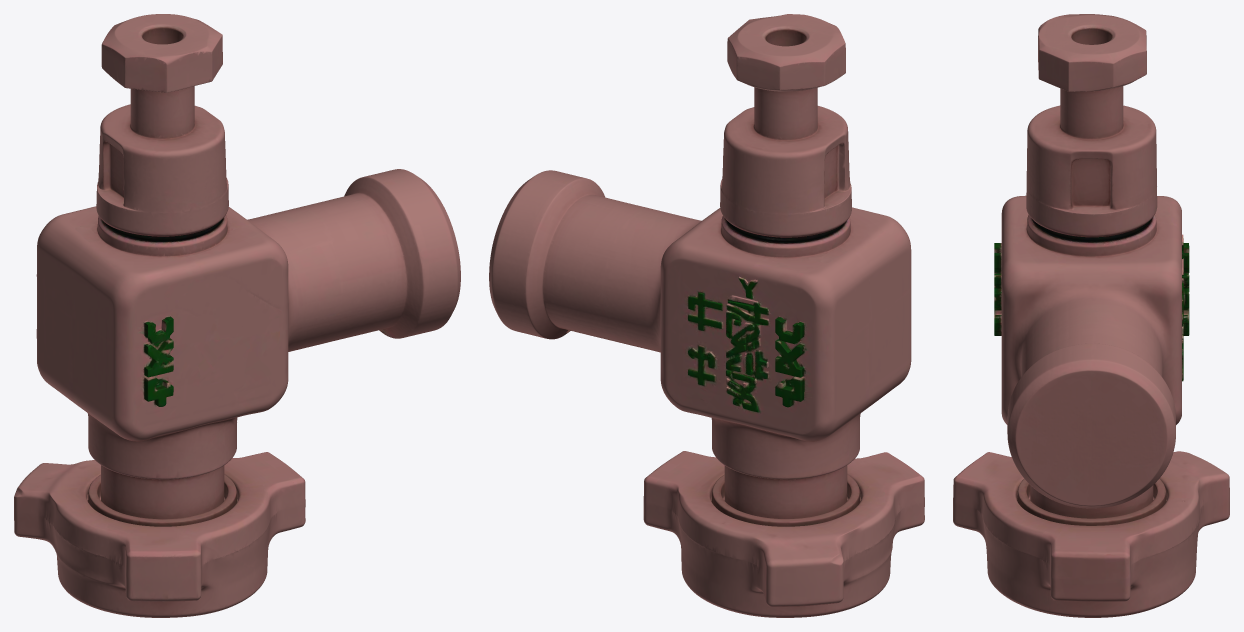
The model's file is ValvulaPresionMecanicaEstandar.glb.
The picture shows the model from 3 angles, left to right: view 1: azimuth 30°, elevation 25°; view 2: azimuth 150°, elevation 25°; view 3: azimuth 270°, elevation 25°; orthographic projection.
Visible parts, largest first — view 1: tripo_node_d0c22592-a8f4-44ec-a81c-06d4665fd21f; view 2: tripo_node_d0c22592-a8f4-44ec-a81c-06d4665fd21f; view 3: tripo_node_d0c22592-a8f4-44ec-a81c-06d4665fd21f.
Part boxes in pixels (x1=…): tripo_node_d0c22592-a8f4-44ec-a81c-06d4665fd21f: x1=14, y1=14, x2=460, y2=617; tripo_node_d0c22592-a8f4-44ec-a81c-06d4665fd21f: x1=489, y1=14, x2=924, y2=617; tripo_node_d0c22592-a8f4-44ec-a81c-06d4665fd21f: x1=953, y1=14, x2=1229, y2=617.
Size of the model in its own units: 0.6853 by 0.9804 by 0.454.
Materials: 1 (1 with a texture image).
